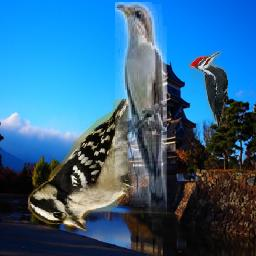Cuckoo: (115, 3, 167, 240)
Woodpecker: (28, 99, 136, 231), (190, 51, 229, 127)
